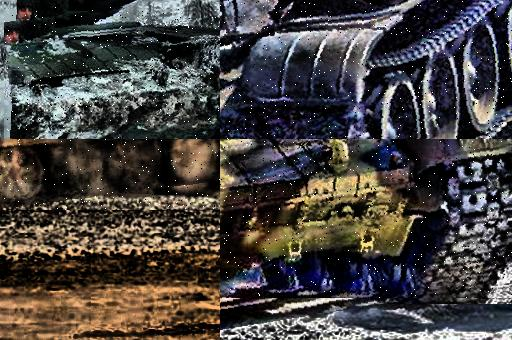tanks: (221, 140, 512, 299), (221, 1, 512, 140), (5, 9, 221, 140), (1, 140, 221, 207)
